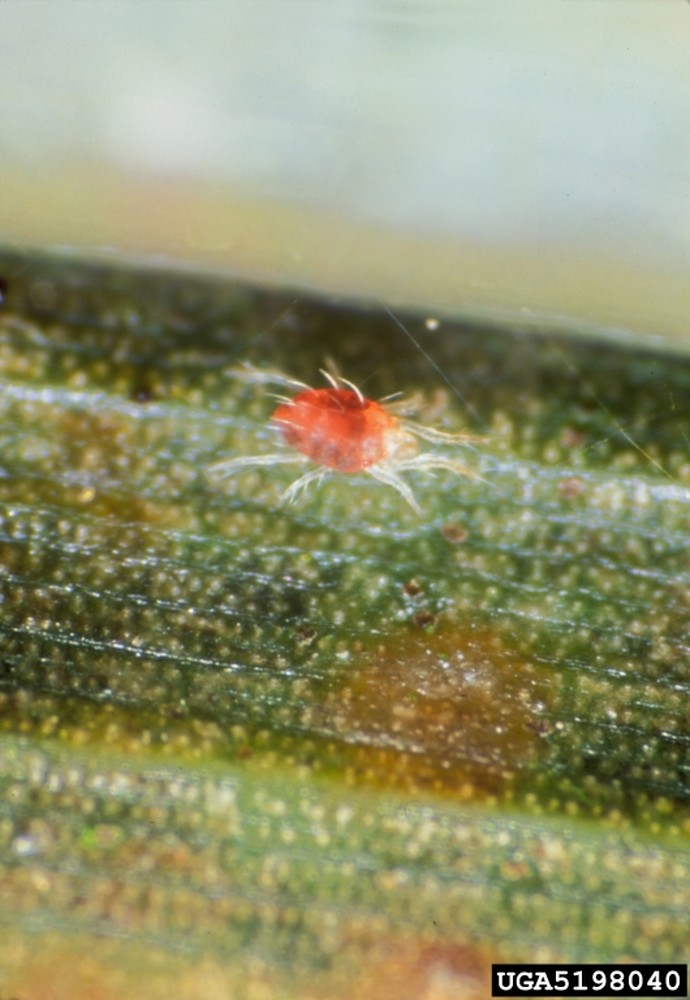Aracnido Rojo: (188, 341, 503, 534)
